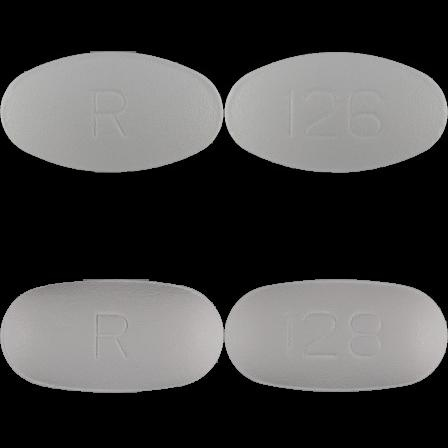55111-126: (0, 0, 224, 224)
